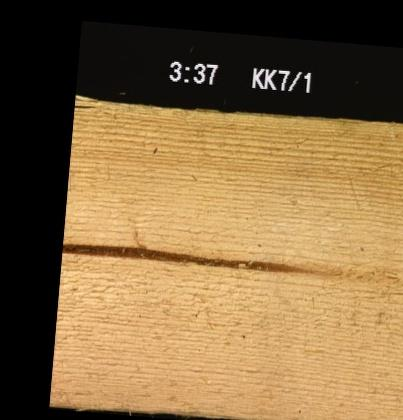split: (73, 101, 97, 110)
